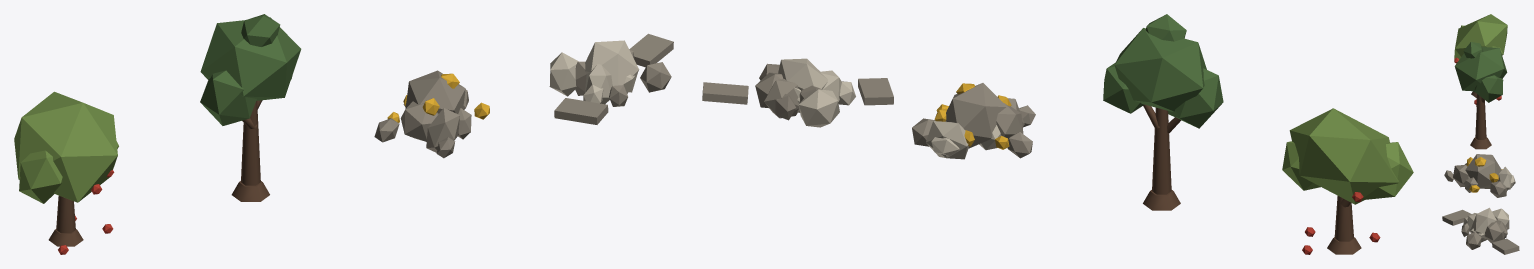
File: resource-markers.glb
3 renders of one model, left to right at view 1: azimuth 30°, elevation 25°; view 2: azimuth 150°, elevation 25°; view 3: azimuth 270°, elevation 25°, orthographic. The views are drawn at different scales.
Parts seen in each view (by area): view 1: tree_food_canopy_a, stone_pile, tree_wood_canopy_a, gold_ore, tree_wood_canopy_b, tree_food_canopy_b, gold_ore_outcrop, stone_pile_core, tree_wood_trunk, tree_wood_canopy_d, gold_ore_outcrop_b, tree_food_trunk (+2 smaller); view 2: tree_food_canopy_a, tree_wood_canopy_a, stone_pile, gold_ore, gold_ore_outcrop, tree_wood_canopy_b, tree_wood_trunk, tree_food_canopy_b, stone_pile_core, tree_wood_canopy_c, tree_wood_canopy_d, tree_food_canopy_c (+6 smaller); view 3: tree_wood_canopy_a, tree_food_canopy_a, stone_pile, gold_ore, gold_ore_outcrop, tree_wood_canopy_c, tree_wood_trunk, stone_pile_core, stone_pile_core_b, tree_wood_canopy_d, tree_wood_root_flare, tree_food.
Part boxes in pixels (x1,y1,x2,y2): tree_food_canopy_a: (14, 91, 117, 202); stone_pile: (549, 33, 673, 124); tree_wood_canopy_a: (200, 17, 301, 100); gold_ore: (374, 73, 489, 158); tree_wood_canopy_b: (200, 70, 256, 125); tree_food_canopy_b: (19, 150, 62, 203); gold_ore_outcrop: (405, 70, 465, 113); stone_pile_core: (585, 40, 639, 93); tree_wood_trunk: (241, 101, 260, 185); tree_wood_canopy_d: (241, 14, 280, 46); gold_ore_outcrop_b: (400, 101, 438, 141); tree_food_trunk: (56, 195, 75, 233); tree_food_canopy_a: (1289, 108, 1398, 204); tree_wood_canopy_a: (1114, 28, 1206, 111); stone_pile: (702, 63, 893, 127); gold_ore: (912, 83, 1035, 159); gold_ore_outcrop: (946, 83, 1006, 148); tree_wood_canopy_b: (1168, 68, 1223, 128); tree_wood_trunk: (1152, 107, 1171, 194); tree_food_canopy_b: (1362, 142, 1413, 199); stone_pile_core: (778, 58, 827, 90); tree_wood_canopy_c: (1103, 63, 1143, 113); tree_wood_canopy_d: (1145, 14, 1186, 41); tree_food_canopy_c: (1282, 141, 1320, 190); tree_wood_canopy_a: (1454, 47, 1507, 91); tree_food_canopy_a: (1454, 14, 1507, 59); stone_pile: (1442, 208, 1519, 254); gold_ore: (1444, 157, 1515, 197); gold_ore_outcrop: (1465, 154, 1501, 188); tree_wood_canopy_c: (1474, 75, 1503, 102); tree_wood_trunk: (1475, 94, 1486, 139); stone_pile_core: (1470, 207, 1496, 239); stone_pile_core_b: (1484, 222, 1504, 243); tree_wood_canopy_d: (1463, 42, 1483, 58); tree_wood_root_flare: (1470, 137, 1491, 149); tree_food: (1454, 57, 1501, 104).
Bounding box in the file's own units: 22.28 × 5.77 × 3.87.
